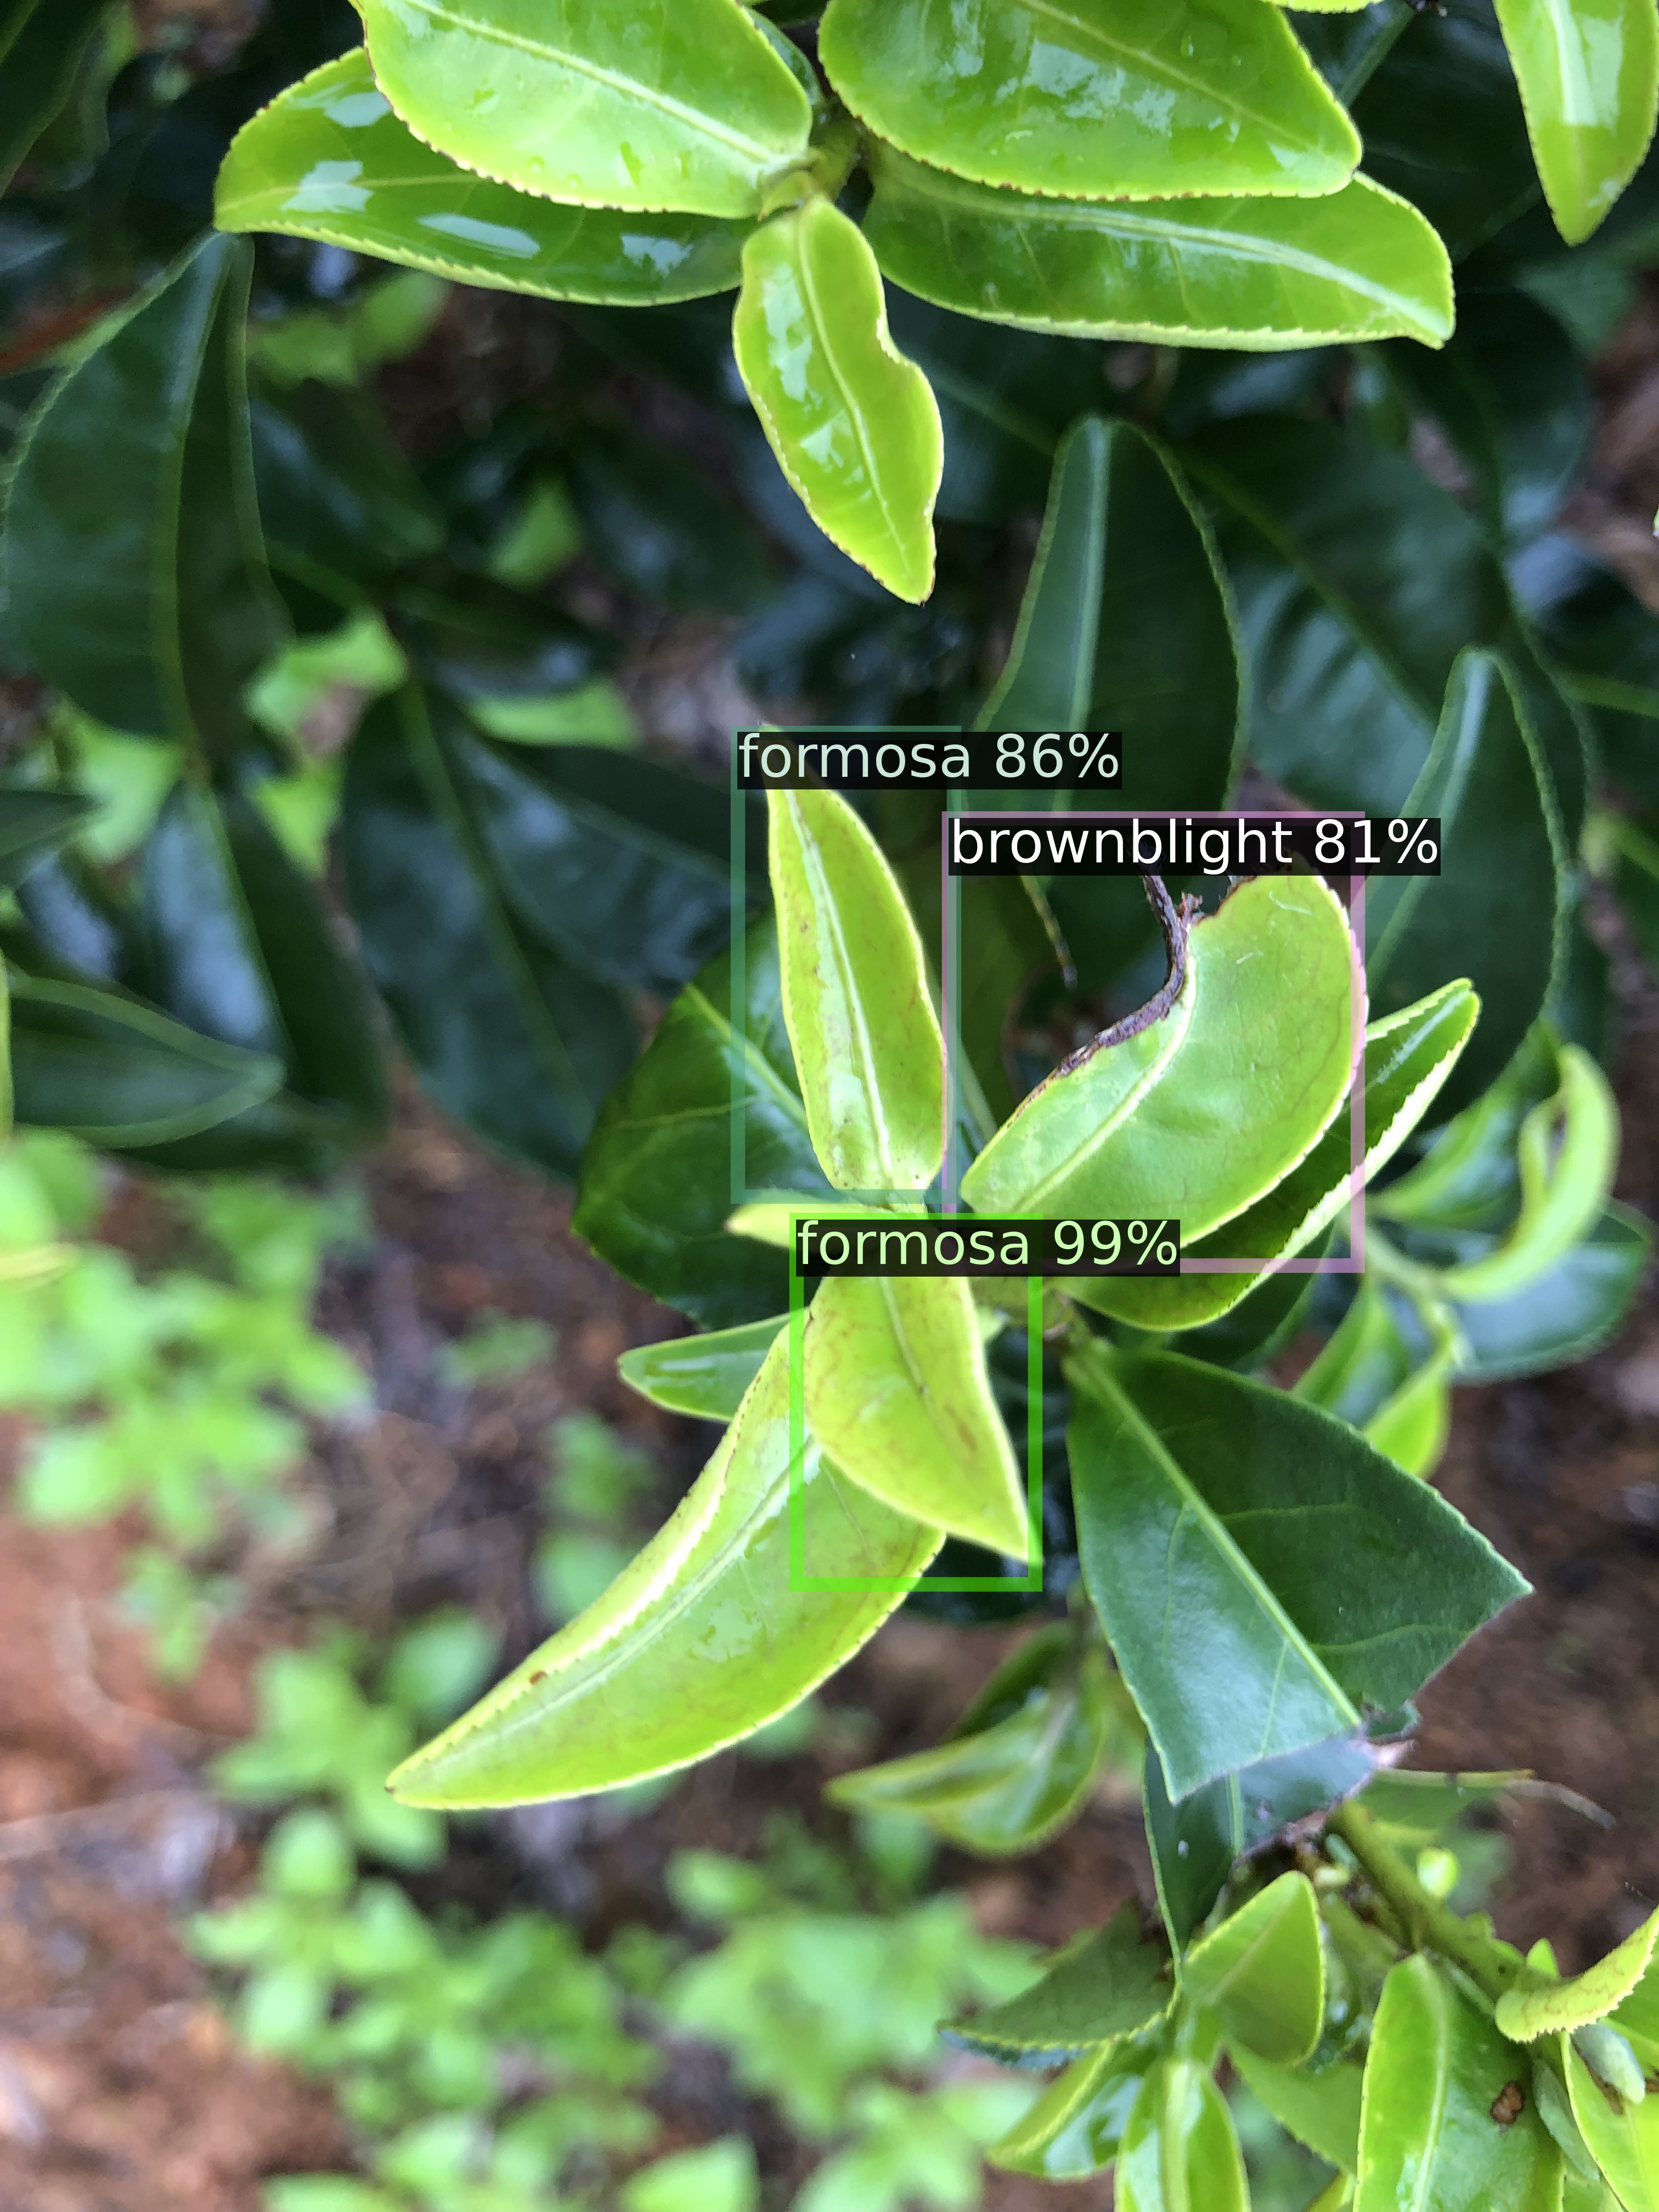brownblight: (950, 819, 1358, 1266)
formosa: (737, 732, 953, 1197), (796, 1221, 1035, 1585)
